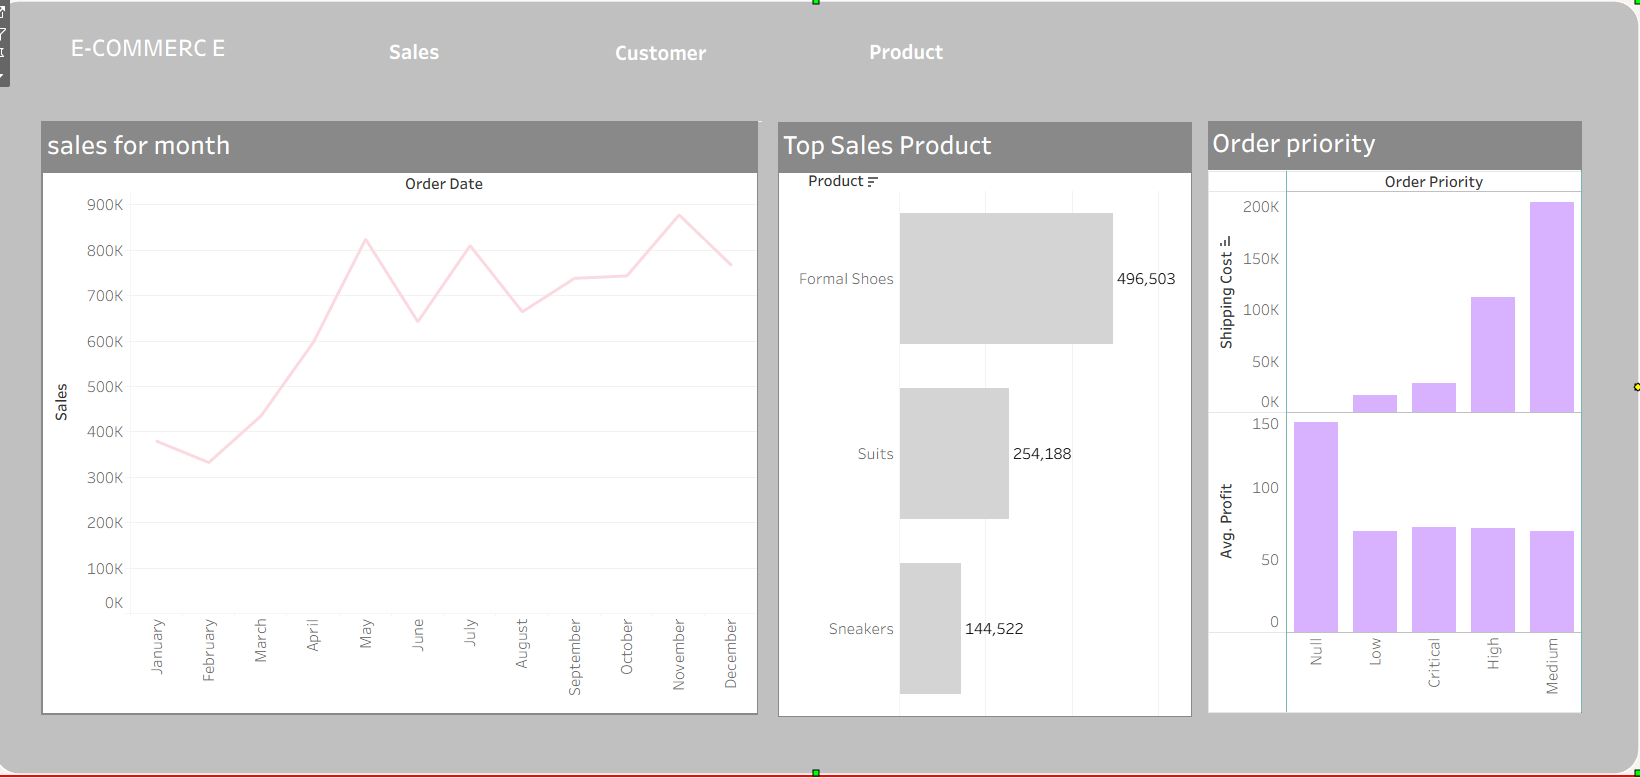

The dashboard page shown, as its layout file describes it:
{"tool":"tableau","page":{"name":"edataset_1","canvas":[1000,1000],"units":"permille","ordinal":0},"visuals":[{"type":"worksheet","title":"Sheet 15","mark":"Automatic","box":[0,0,1000,1000]},{"type":"dashboard-object","box":[187.3,35.7,138.2,97.8]},{"type":"dashboard-object","box":[484,35.7,138.2,97.8]},{"type":"dashboard-object","box":[336,37,138.2,97.8]},{"type":"text","box":[18.4,41,153.6,79.3]},{"type":"worksheet","title":"sales for month","mark":"Line","rows":["Sales"],"cols":["Order_Date"],"box":[30.7,171.7,433.1,731.8]},{"type":"parameter","param":"[Parameters].[Parameter 1]","box":[31.3,171.7,434.3,0.7]},{"type":"worksheet","title":"Sheet 4 (2)","mark":"Automatic","rows":["Shipping_Cost","Profit"],"cols":["Order_Priority"],"box":[734.9,171.7,225.7,730.5]},{"type":"filter","title":"Top Sales Product","param":"[federated.1cxdnj41gxbj3c15pu7um0wugi4i].[none:Product:nk]","box":[31.3,172.4,434.3,0.7]},{"type":"worksheet","title":"Top Sales Product","mark":"Automatic","rows":["Product"],"cols":["Sales"],"box":[475.4,173.1,250,733.2]}]}

Visuals, with their boxes on the dashboard's canvas, which has no fixed pixel size, in thousandths of its width and height (x1, y1, x2, y2). These are canvas units, not pixel positions in the 1640x778 screenshot, which may show the page scaled, cropped or inside an application window:
"Sheet 15" worksheet: box=[0, 0, 1000, 1000]
dashboard-object: box=[187, 36, 326, 134]
dashboard-object: box=[484, 36, 622, 134]
dashboard-object: box=[336, 37, 474, 135]
text: box=[18, 41, 172, 120]
"sales for month" worksheet (Line marks): box=[31, 172, 464, 904]
parameter: box=[31, 172, 466, 172]
"Sheet 4 (2)" worksheet: box=[735, 172, 961, 902]
"Top Sales Product" filter: box=[31, 172, 466, 173]
"Top Sales Product" worksheet: box=[475, 173, 725, 906]
